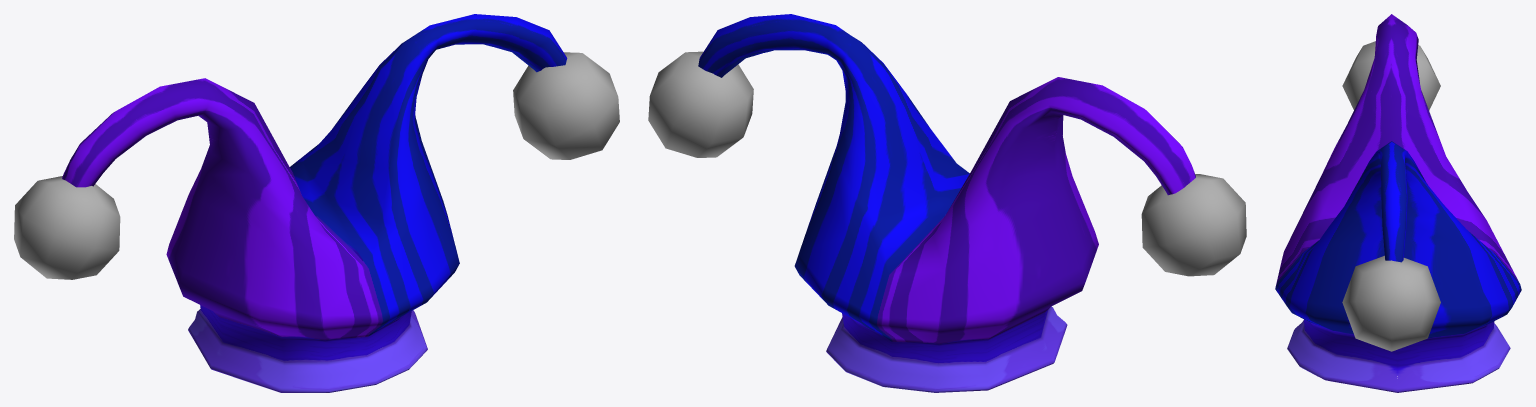
File: SM_Joker_Hat.fbx
3 views of the same model, side by side, from view 1: azimuth 30°, elevation 25°; view 2: azimuth 150°, elevation 25°; view 3: azimuth 270°, elevation 25° (orthographic). The views are drawn at different scales.
Visible parts, largest first — view 1: pCube4; view 2: pCube4; view 3: pCube4.
Part boxes in pixels (bbox=[...]): pCube4: bbox=[14, 14, 619, 392]; pCube4: bbox=[648, 14, 1246, 392]; pCube4: bbox=[1275, 14, 1521, 392].
Size of the model in its own units: 5.42 by 2.6 by 2.2.
2 materials, 1 textured.
